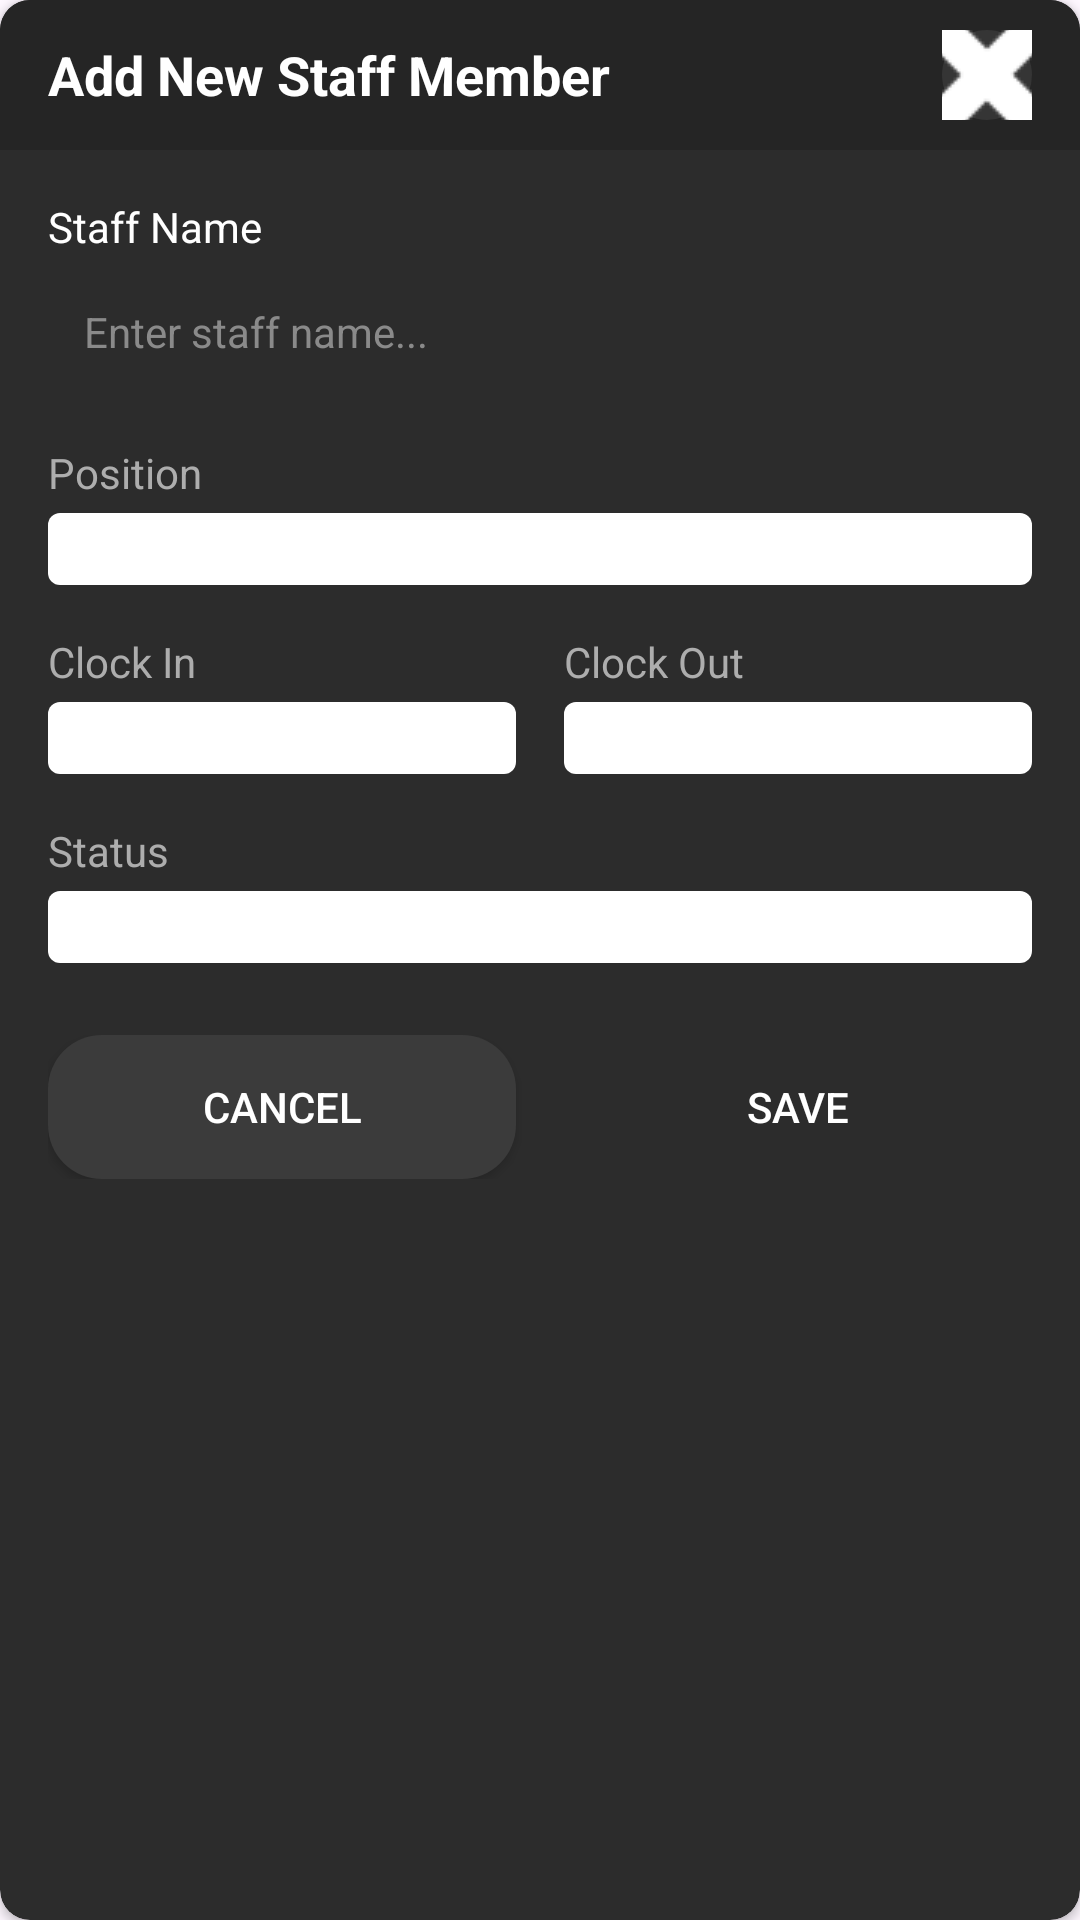

Icon click points for this 1080w x 1920h phone screenshot, format [x,y]:
Close: [987,75]
